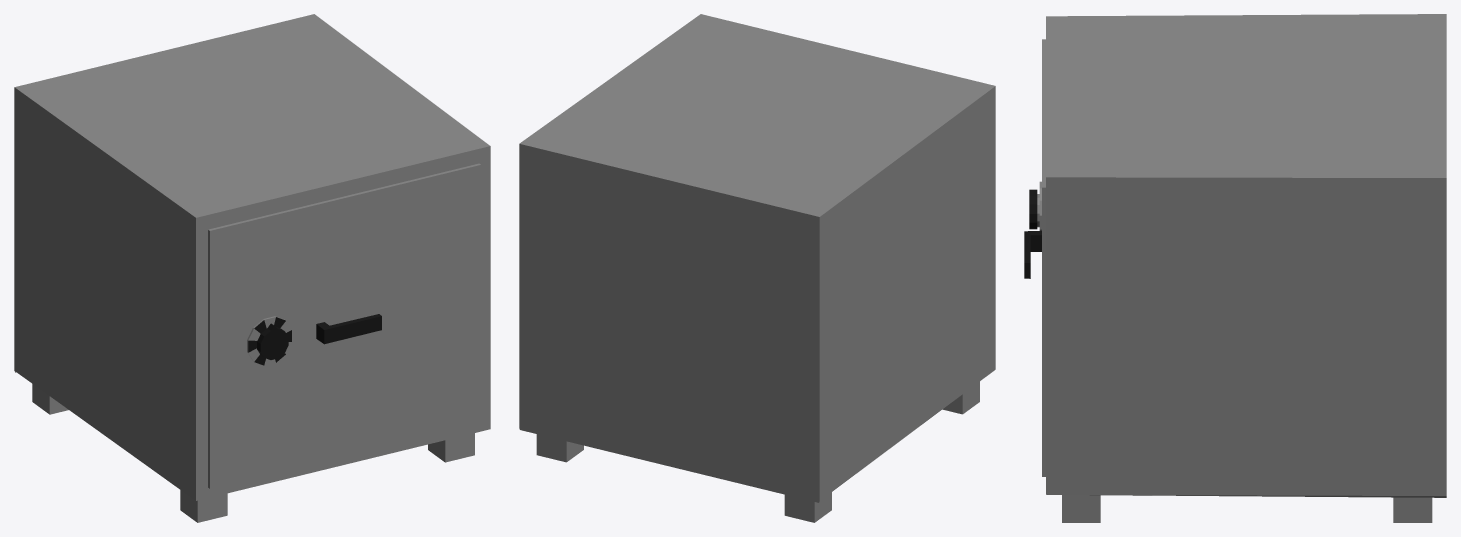
The model's file is Locker.fbx.
3 renders of one model, left to right at view 1: azimuth 30°, elevation 25°; view 2: azimuth 150°, elevation 25°; view 3: azimuth 270°, elevation 25°, orthographic. The views are drawn at different scales.
Visible parts, largest first — view 1: Locker; view 2: Locker; view 3: Locker.
Part boxes in pixels (x1,y1,x2,y2): Locker: (14,14,490,522); Locker: (519,14,995,522); Locker: (1024,14,1446,522).
Bounding box in the file's own units: 48.79 × 48.64 × 53.08.
